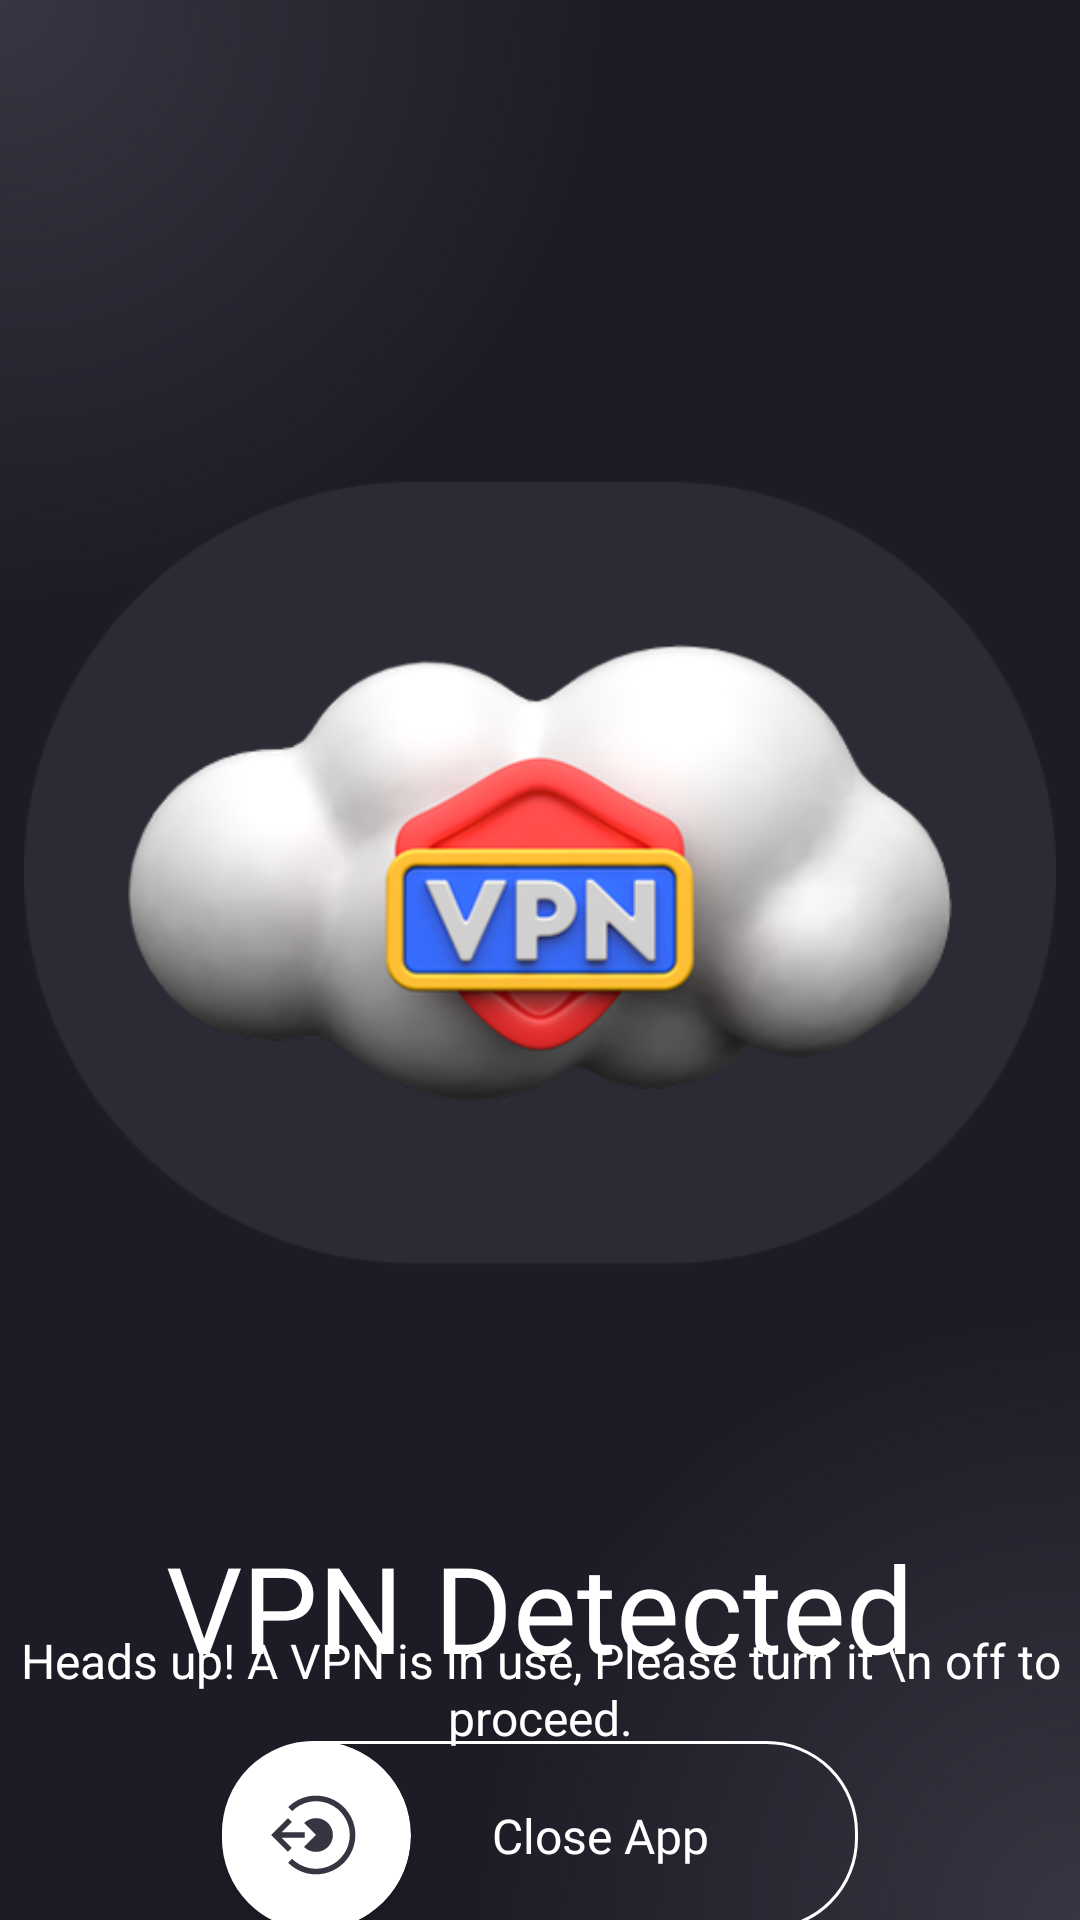

Named icons in this screenshot (1080*1920) and their centers, point (x, y):
left back circle: point (313, 1835)
